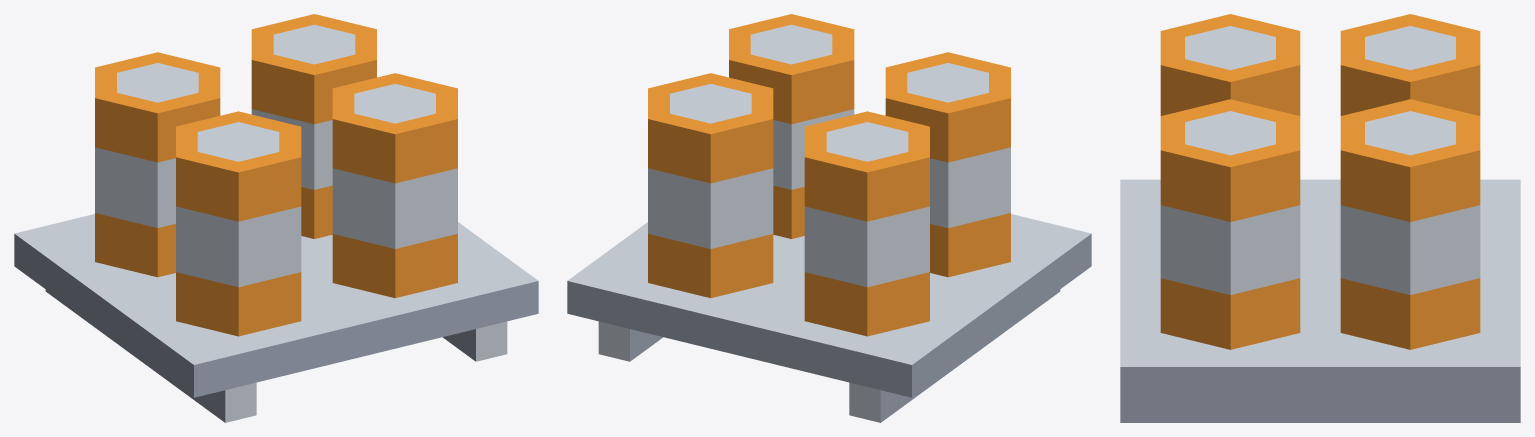
Rendered from barrels.obj.
3 views of the same model, side by side, from view 1: azimuth 30°, elevation 25°; view 2: azimuth 150°, elevation 25°; view 3: azimuth 270°, elevation 25° (orthographic). The views are drawn at different scales.
Parts seen in each view (by area): view 1: barrel, barrels; view 2: barrel, barrels; view 3: barrel, barrels.
Boxes of the visible parts, x1,y1,x2,y2 form: barrel: (95, 14, 457, 336); barrels: (14, 214, 538, 422); barrel: (648, 14, 1010, 336); barrels: (567, 214, 1091, 422); barrel: (1160, 14, 1480, 349); barrels: (1120, 179, 1520, 422).
Size of the model in its own units: 0.55 by 0.35 by 0.4964.
